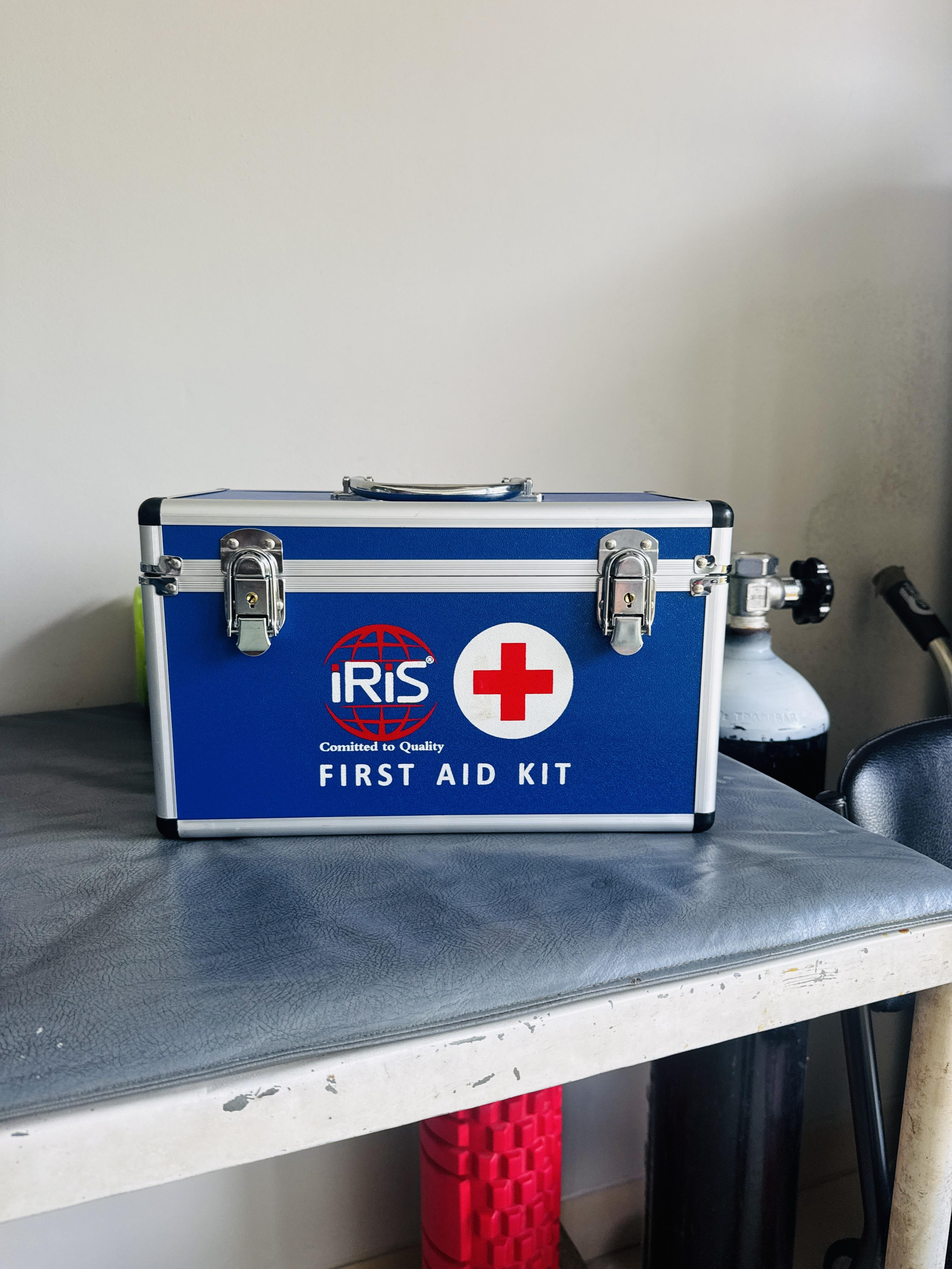FirstAidBox: (109, 440, 754, 886)
